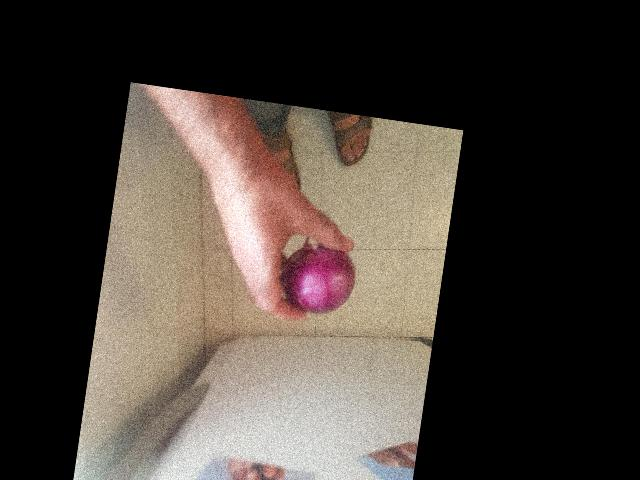onion: (279, 237, 356, 318)
